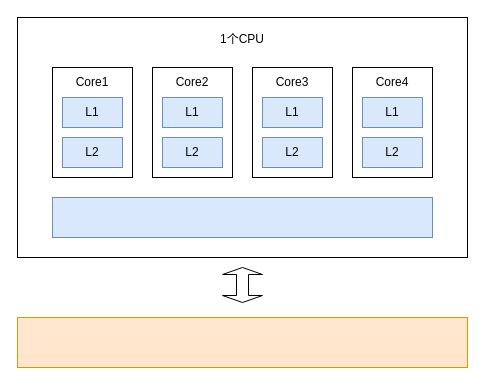
Image size: 485x385. Some labels were removed from this diagram. Here are the shapes that lost their labels. From the top down, the centre of each, then its label:
At point (242, 217): "L3".
At point (242, 342): "主内存".
